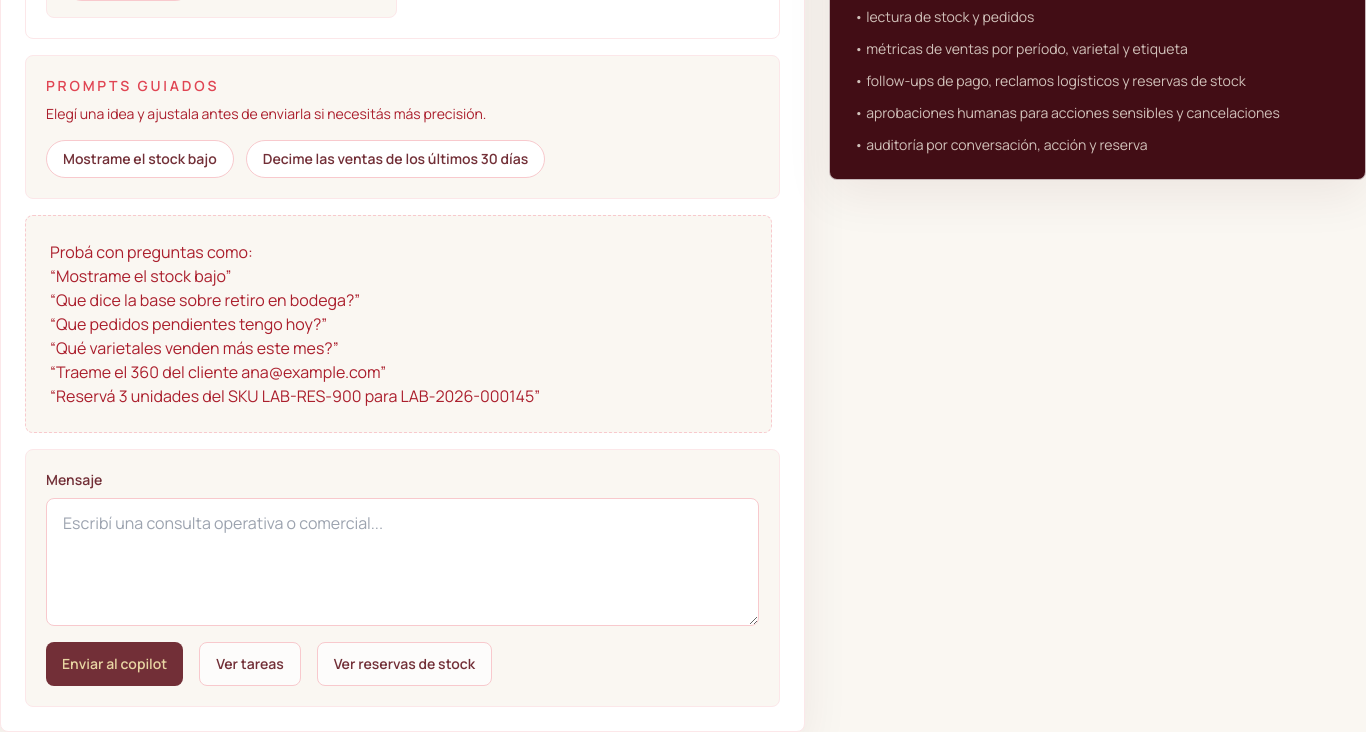
Scenario: BackofficeCopilotPage › shows an error message when the copilot request fails
(page scrolled)
Step 1. Type "Que pedidos pendientes tengo hoy?" into the text box labelled "Mensaje" → coordinates (403, 562), box [46,498,759,626]
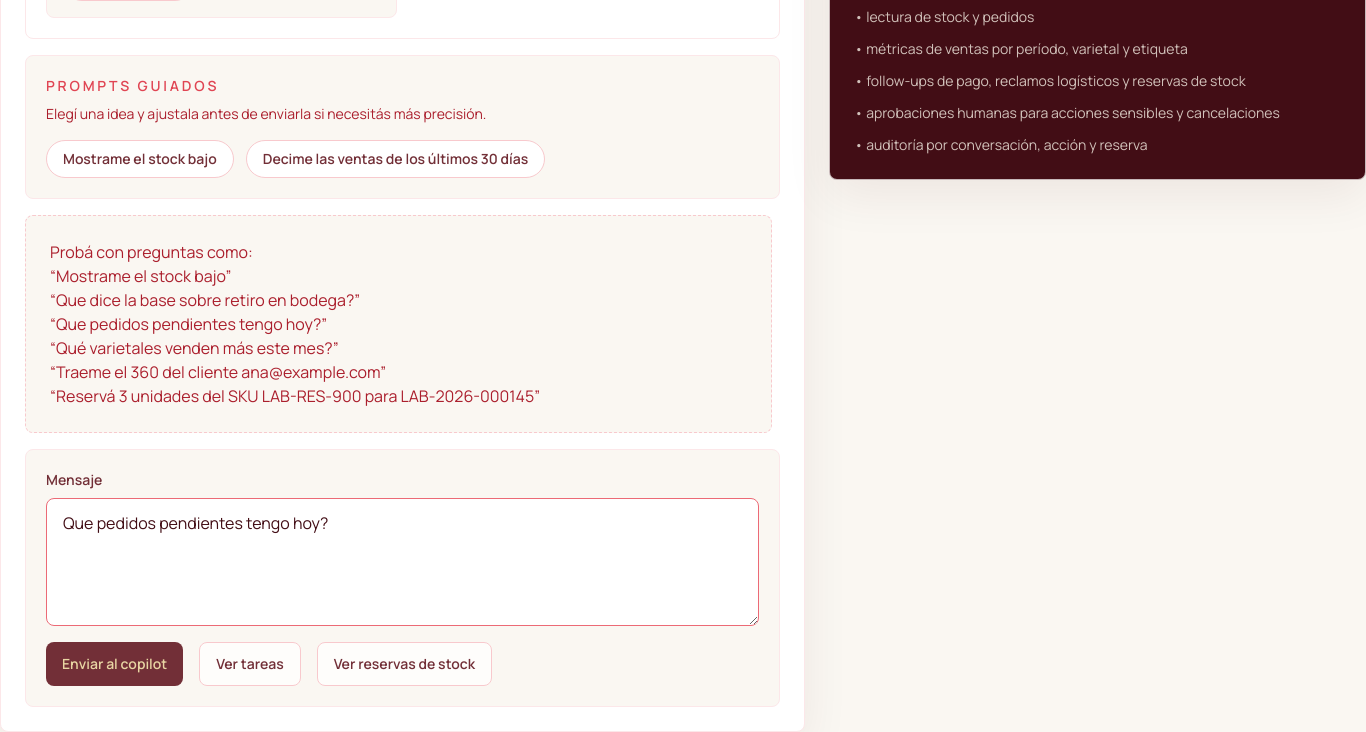
Step 2. Click the button "Enviar al copilot" → coordinates (115, 664), box [46,642,183,686]
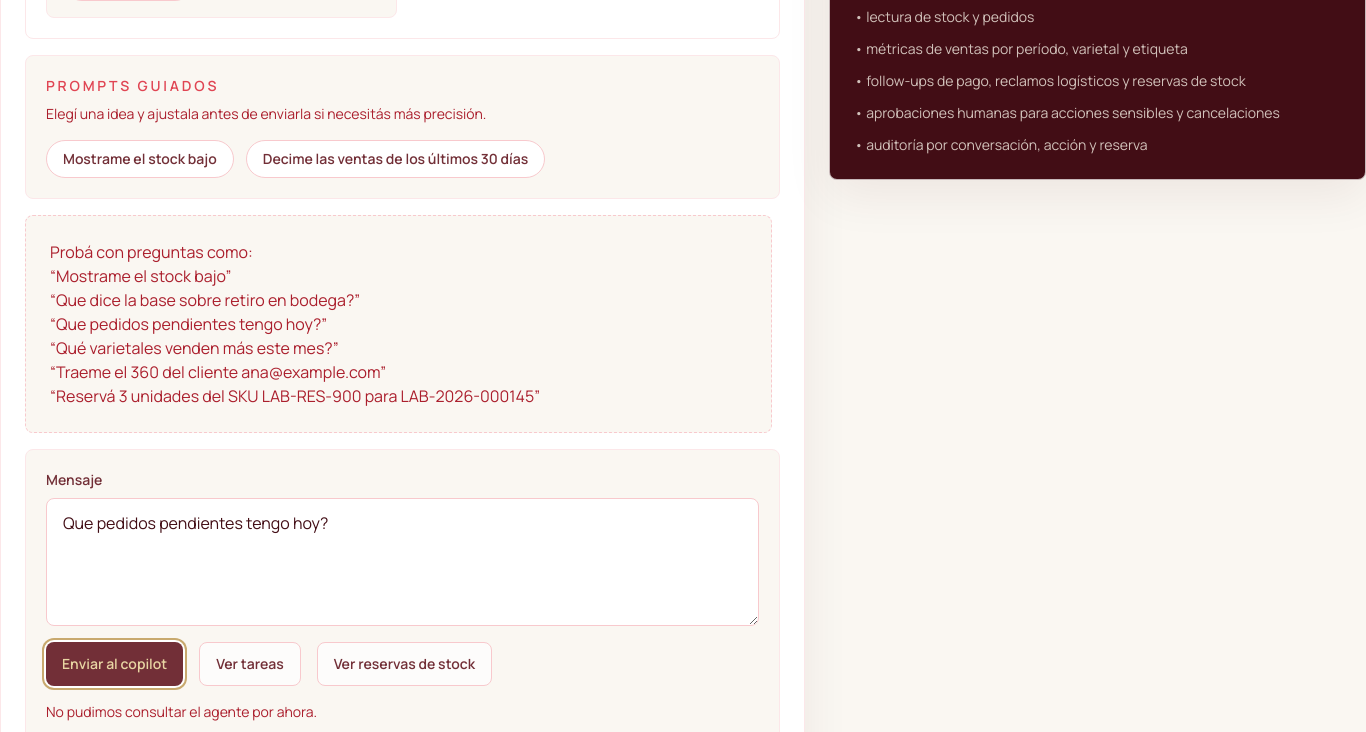
Now the text "No pudimos consultar el agente por ahora." is shown, box [46,702,317,722]
